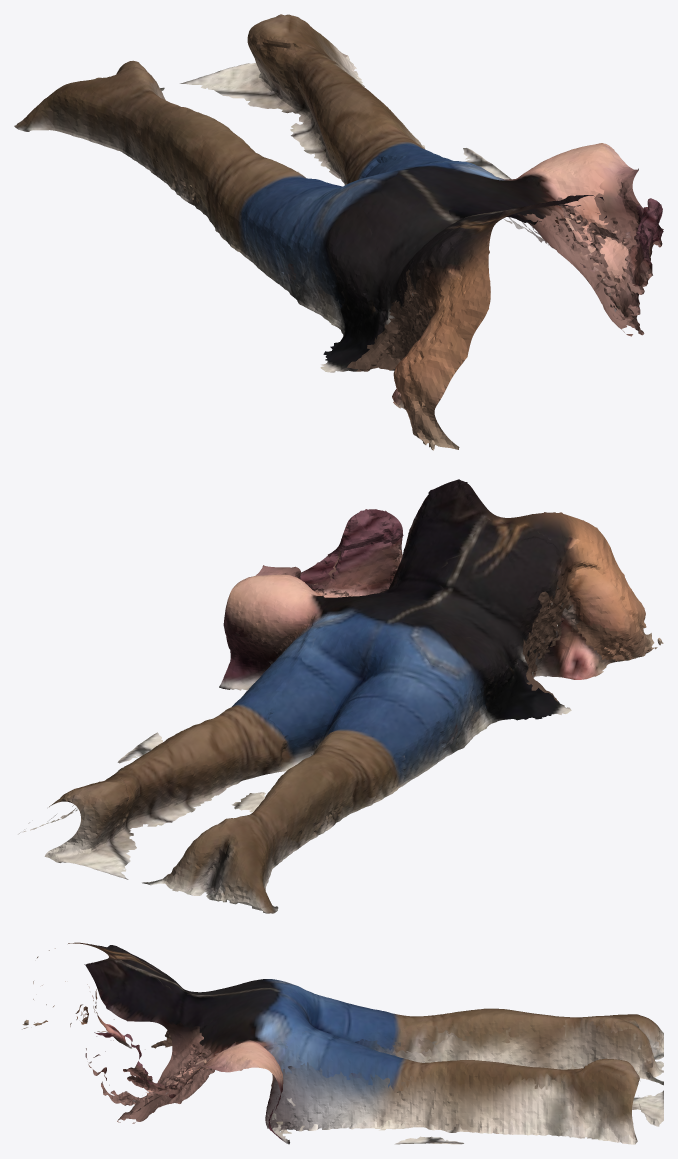
3 views of the same model, one above another, from view 1: azimuth 30°, elevation 25°; view 2: azimuth 150°, elevation 25°; view 3: azimuth 270°, elevation 25° (orthographic). The views are drawn at different scales.
Size of the model in its own units: 0.6638 by 0.3313 by 1.52.
Materials: 1 (1 with a texture image).
